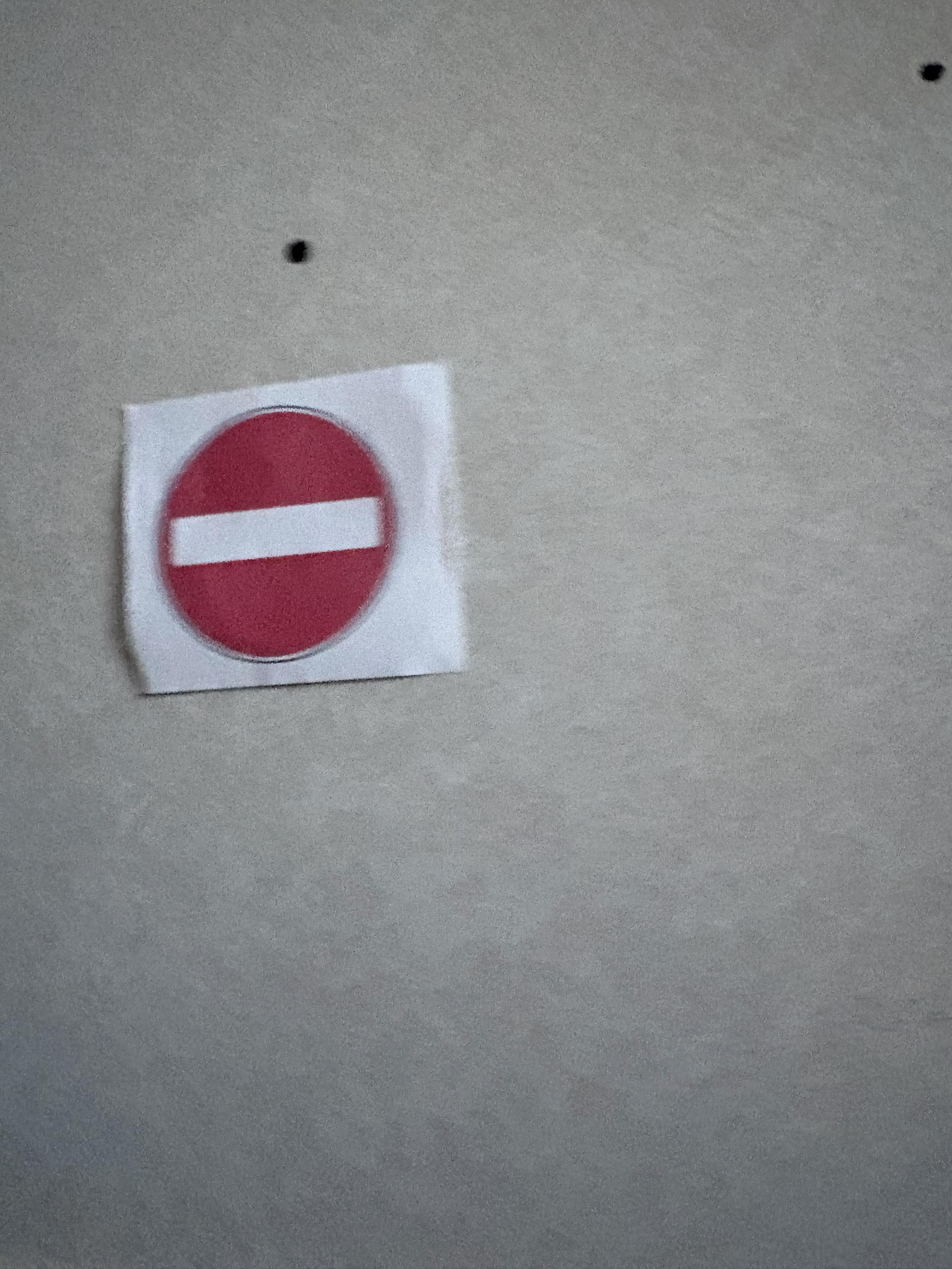No Entry: (120, 359, 474, 704)
